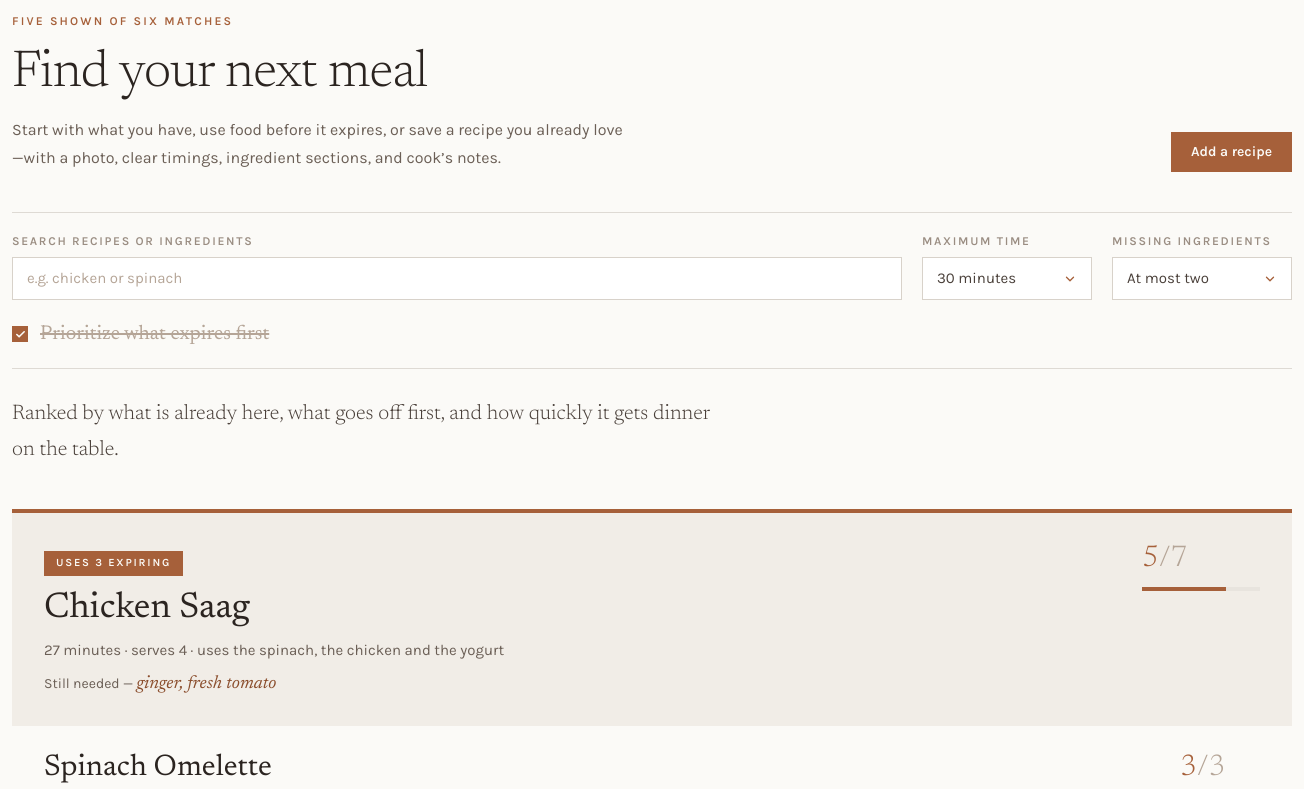
Test: RecipesPage › applies maximum time and missing ingredient controls
Click the button with aria-label "Maximum time": coordinates (1007, 279) [922, 257, 1092, 300]
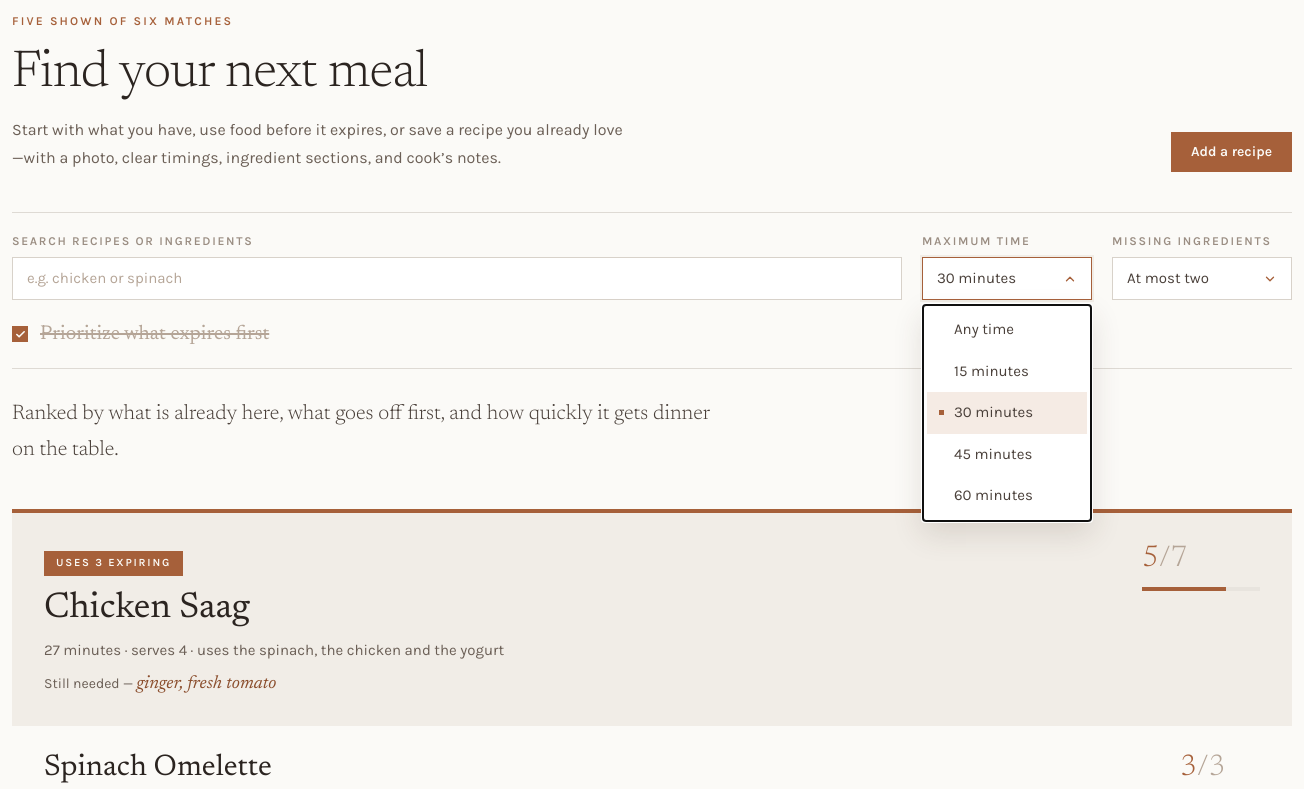
Click the option "15 minutes": coordinates (991, 371) [954, 362, 1029, 380]
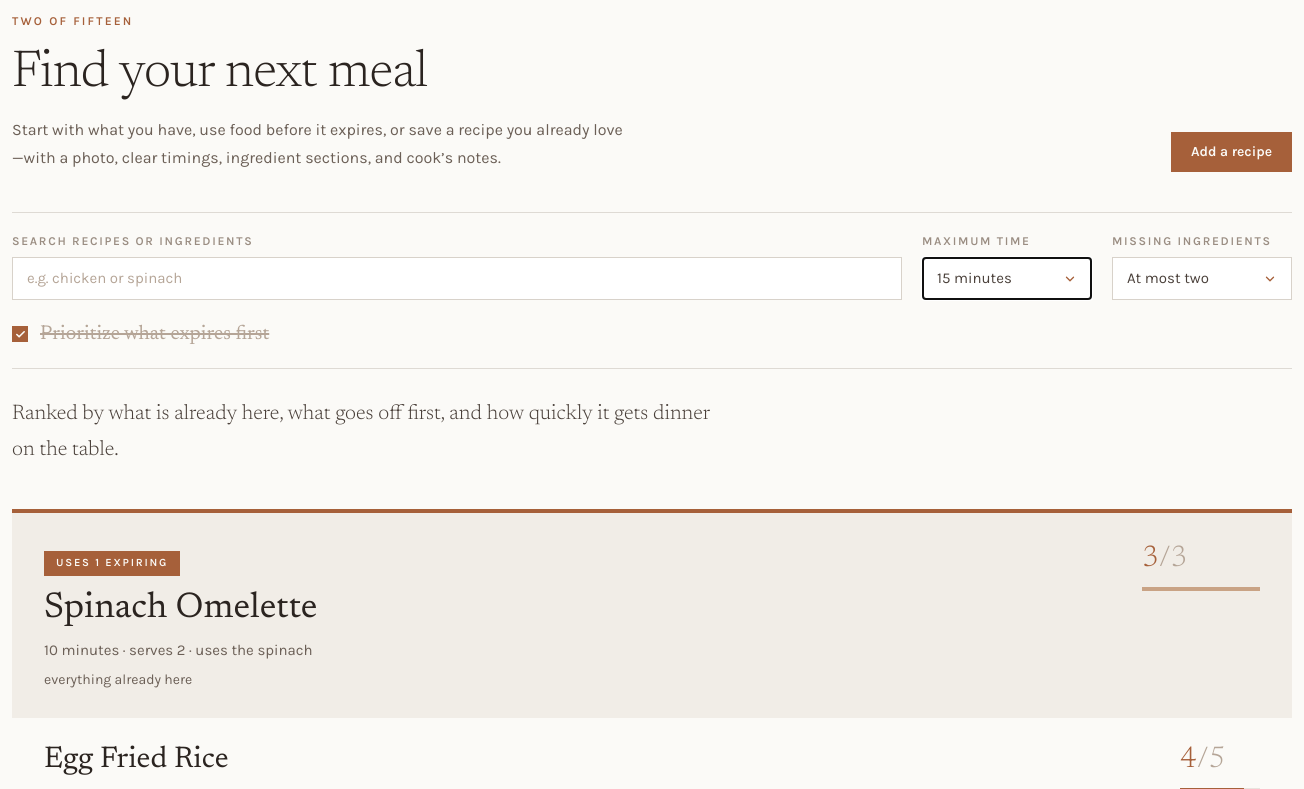
Check: the heading "Spinach Omelette" is shown, box [44, 591, 317, 627]
Check: the link "Chicken Saag" is gone
Click the button with aria-label "Maximum missing ingredients": coordinates (1202, 279) [1112, 257, 1292, 300]
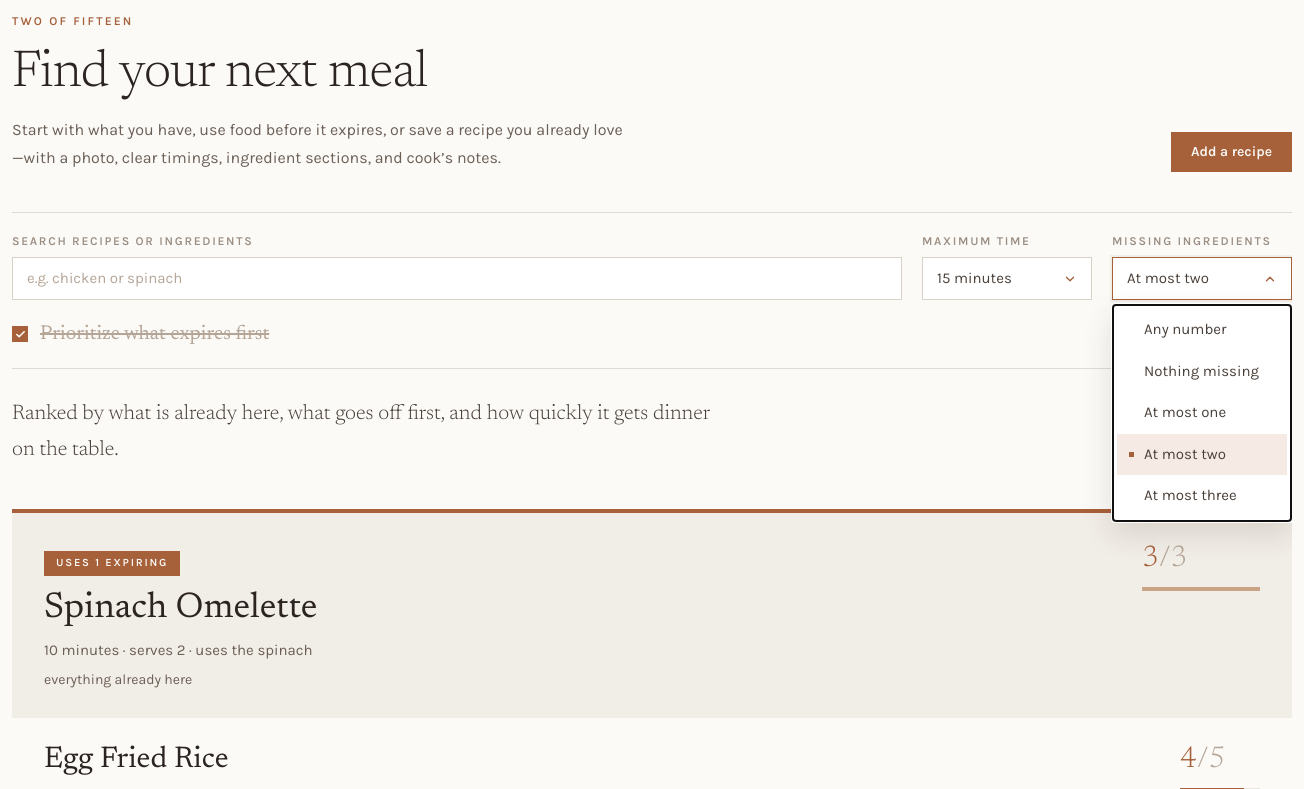
Click the option "Nothing missing": coordinates (1202, 371) [1144, 362, 1259, 380]
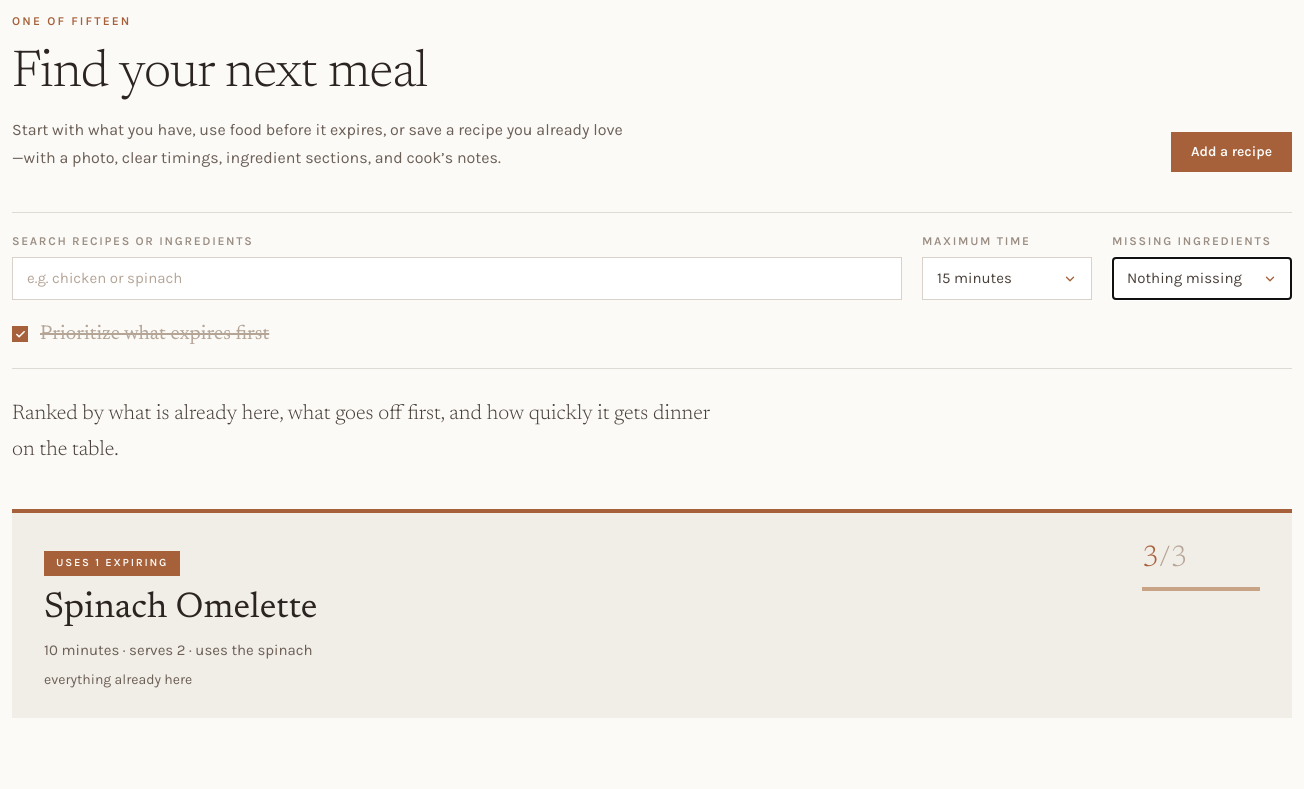
Check: the link "Egg Fried Rice" is gone
